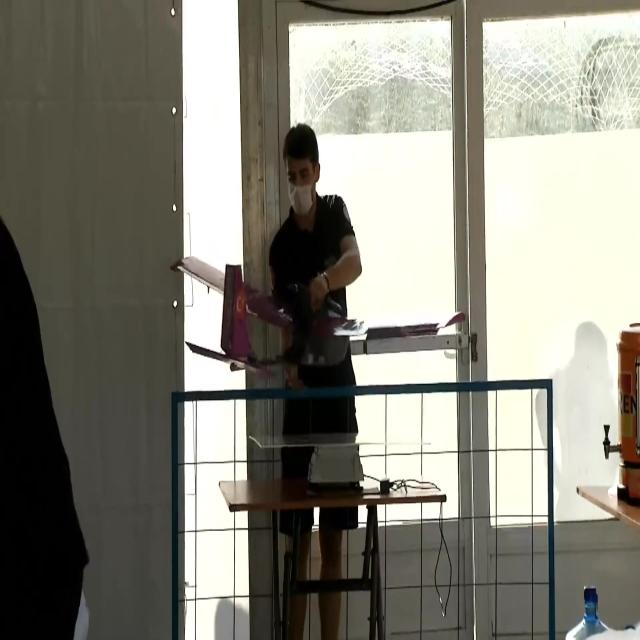iha: (168, 284, 472, 344)
